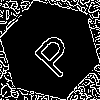P: (25, 25, 81, 81)
